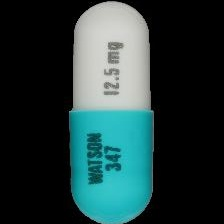76237-175: (0, 0, 224, 224)
